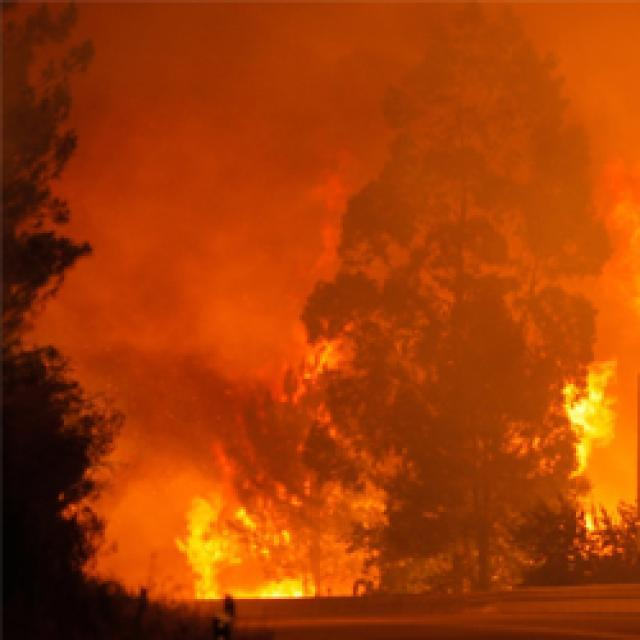Fire: (138, 419, 360, 609), (498, 326, 640, 530), (265, 300, 422, 450)
Smoke: (0, 0, 625, 292), (0, 228, 248, 471)
